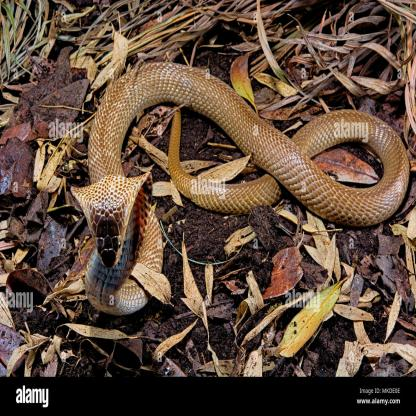Snake: (69, 64, 409, 316)
